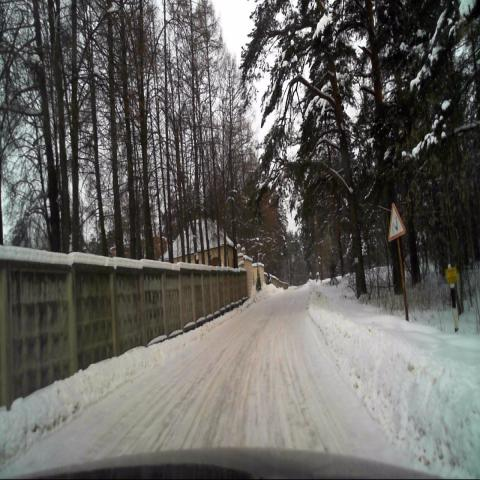1_12: (387, 202, 406, 242)
